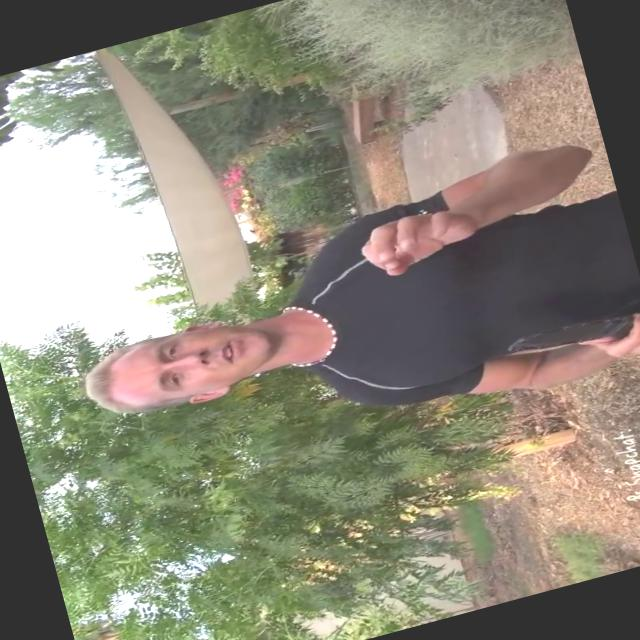knife: (505, 293, 639, 377)
